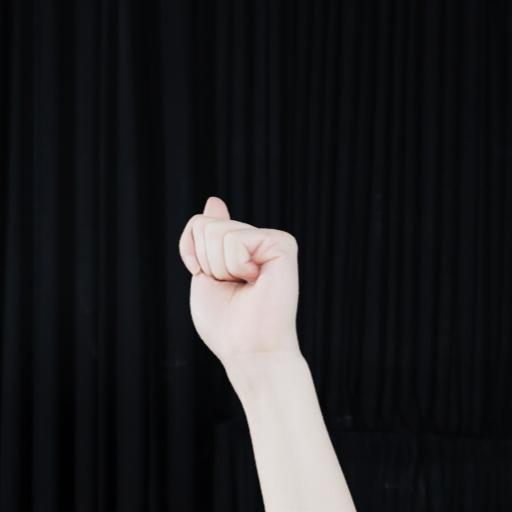T: (175, 194, 321, 380)
